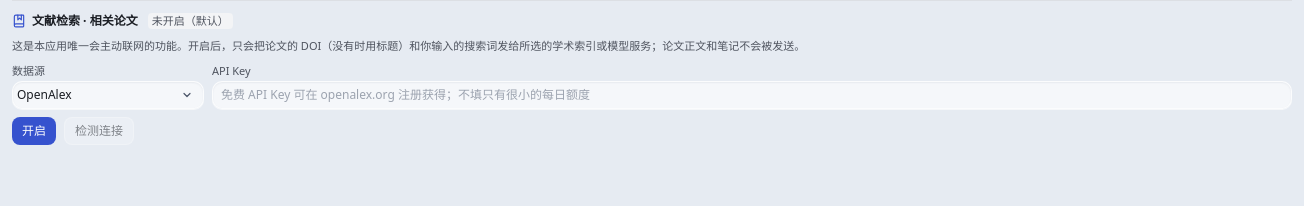
Test: 文献检索 settings › creates an llm_web profile that points at a web-capable chat profile
Select "AI 联网搜索（用已配置的模型）" in the dropdown with test id "search-provider" at (108, 95), box [12,81,204,109]
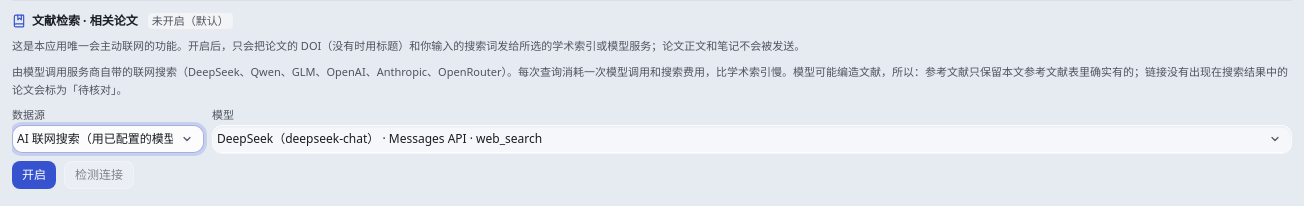
Result: the password field with test id "search-api-key" is gone
Result: the dropdown with test id "search-web-model" shows "DeepSeek（deepseek-chat） · Messages API · web_search" at [212,125,1292,153]
Click the button with test id "search-save" at (34, 175), box [12,161,56,189]
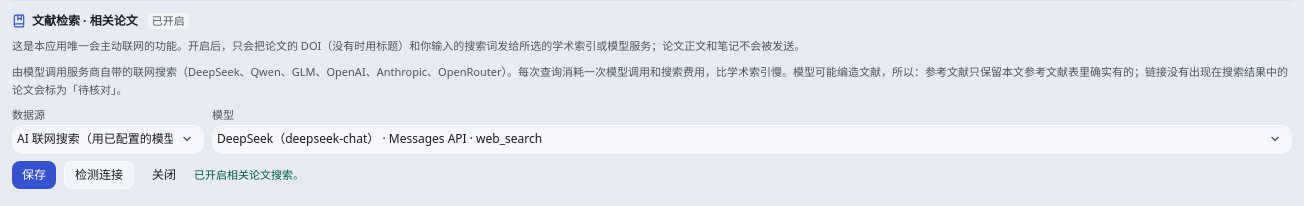
Result: the message shows "已开启" at [194,167,304,183]
